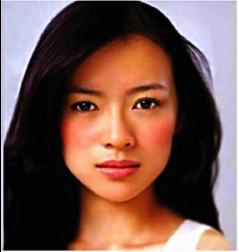Drunk: (70, 57, 172, 192)
